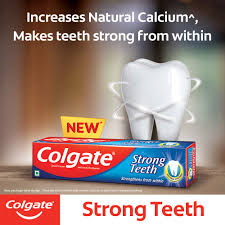gooday-medium: (29, 133, 202, 189)
